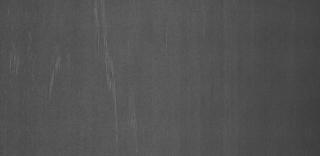silk spot: (99, 43, 128, 113), (40, 45, 70, 96), (86, 4, 110, 38), (10, 34, 28, 74)
